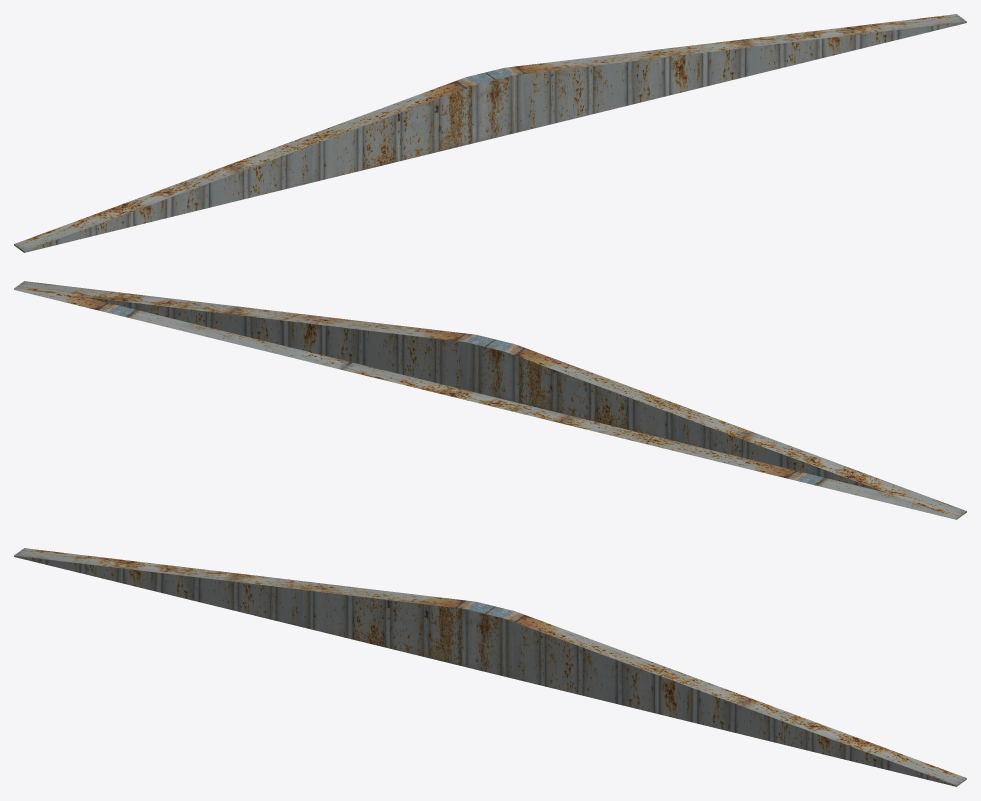
Rendered from Factory2Roof02.FBX.
3 renders of one model, top to bottom at view 1: azimuth 30°, elevation 25°; view 2: azimuth 150°, elevation 25°; view 3: azimuth 330°, elevation 25°, orthographic.
Parts seen in each view (by area): view 1: Factory2Roof02; view 2: Factory2Roof02; view 3: Factory2Roof02.
Part boxes in pixels (bbox=[...]): Factory2Roof02: bbox=[14, 14, 966, 252]; Factory2Roof02: bbox=[14, 281, 966, 519]; Factory2Roof02: bbox=[14, 548, 966, 786].
Bounding box in the file's own units: 1314 × 77.24 × 24.83.
